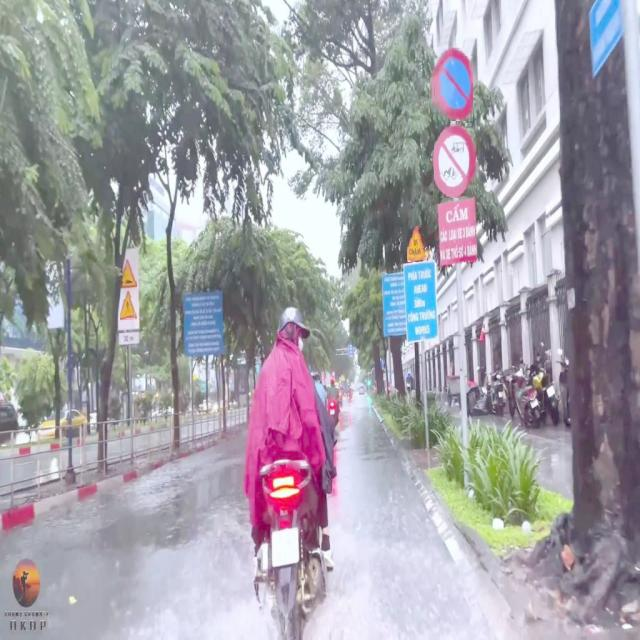cam_cac_loai_xe_3_banh: (434, 124, 475, 198)
cam_do_xe: (431, 48, 473, 121)
chu_y_nguoi_di_bo_cat_ngang: (120, 291, 137, 320)
di_cham: (408, 224, 432, 262)
duong_co_song_map_mo_nhan_tao: (120, 258, 137, 287)
